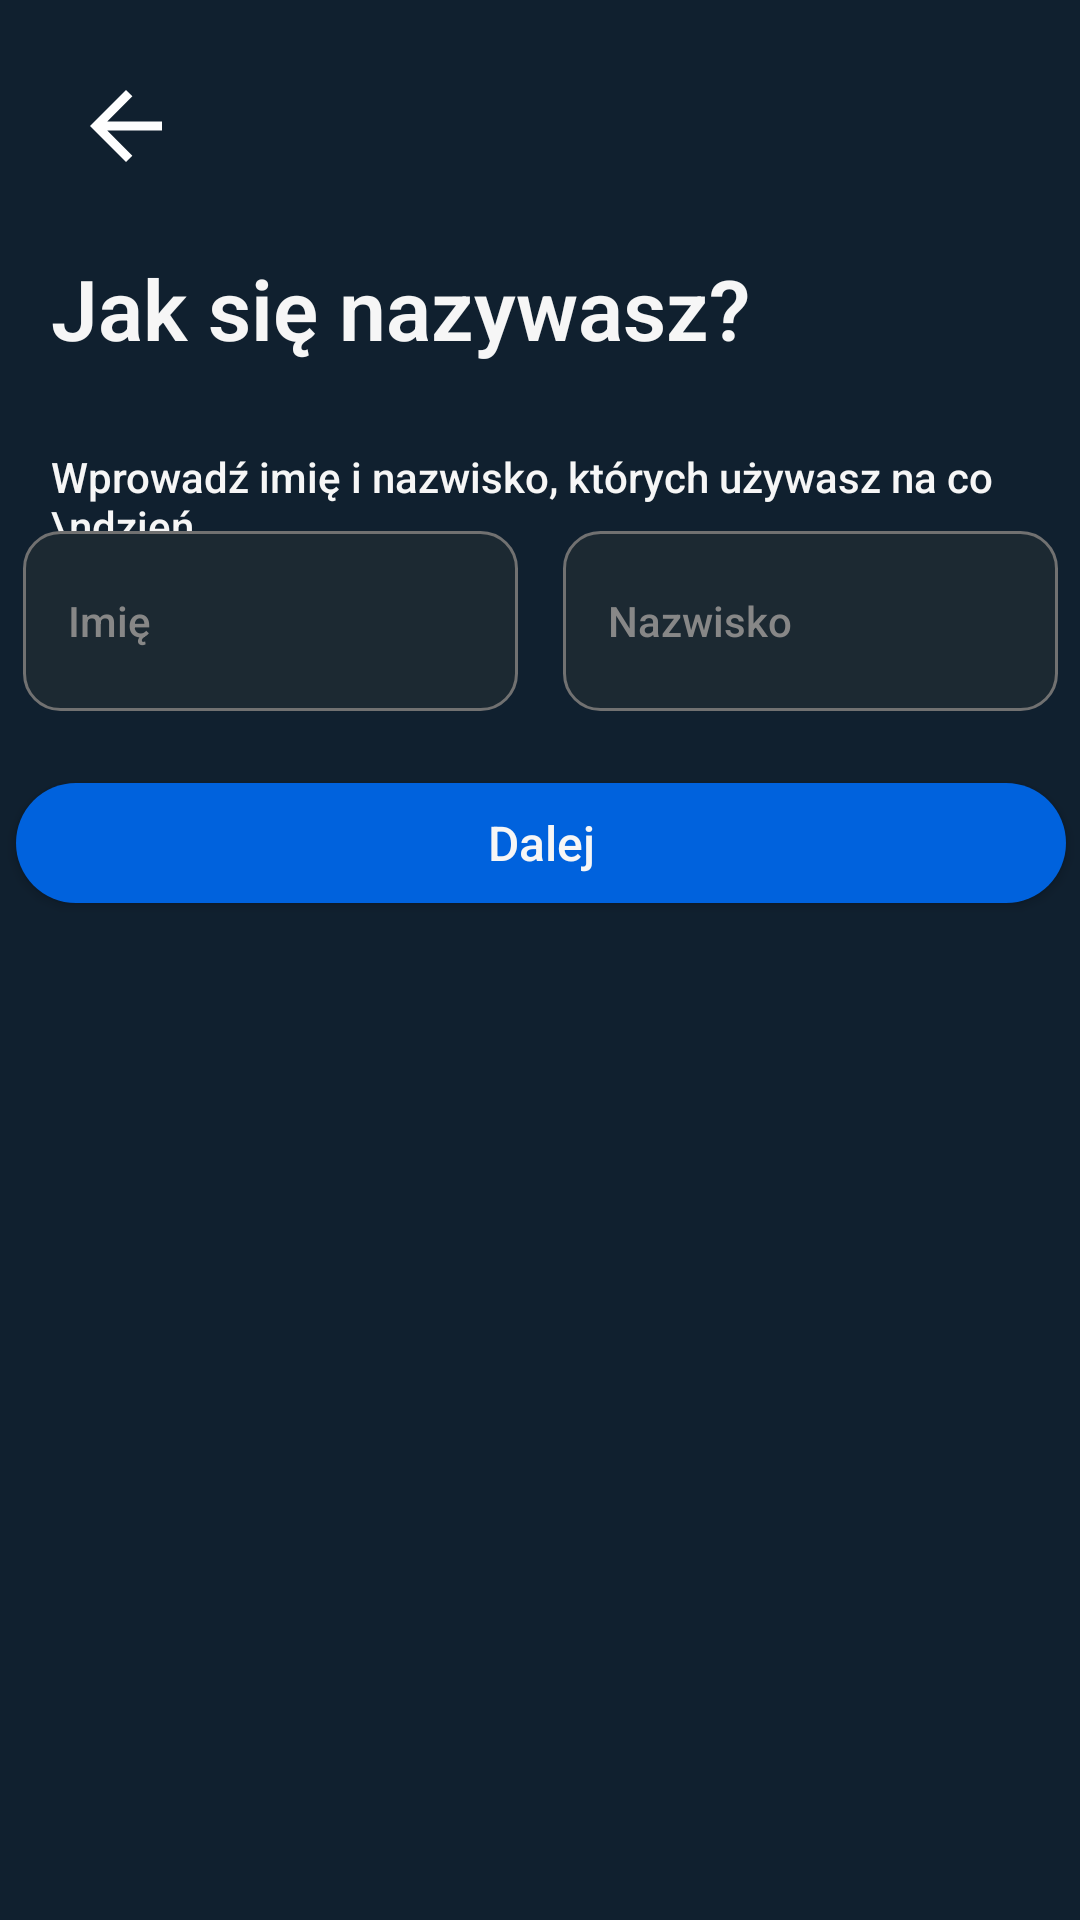

Icon click points for this 1080*1920 phone screenshot, format (x,y):
arrow back: (126,126)
